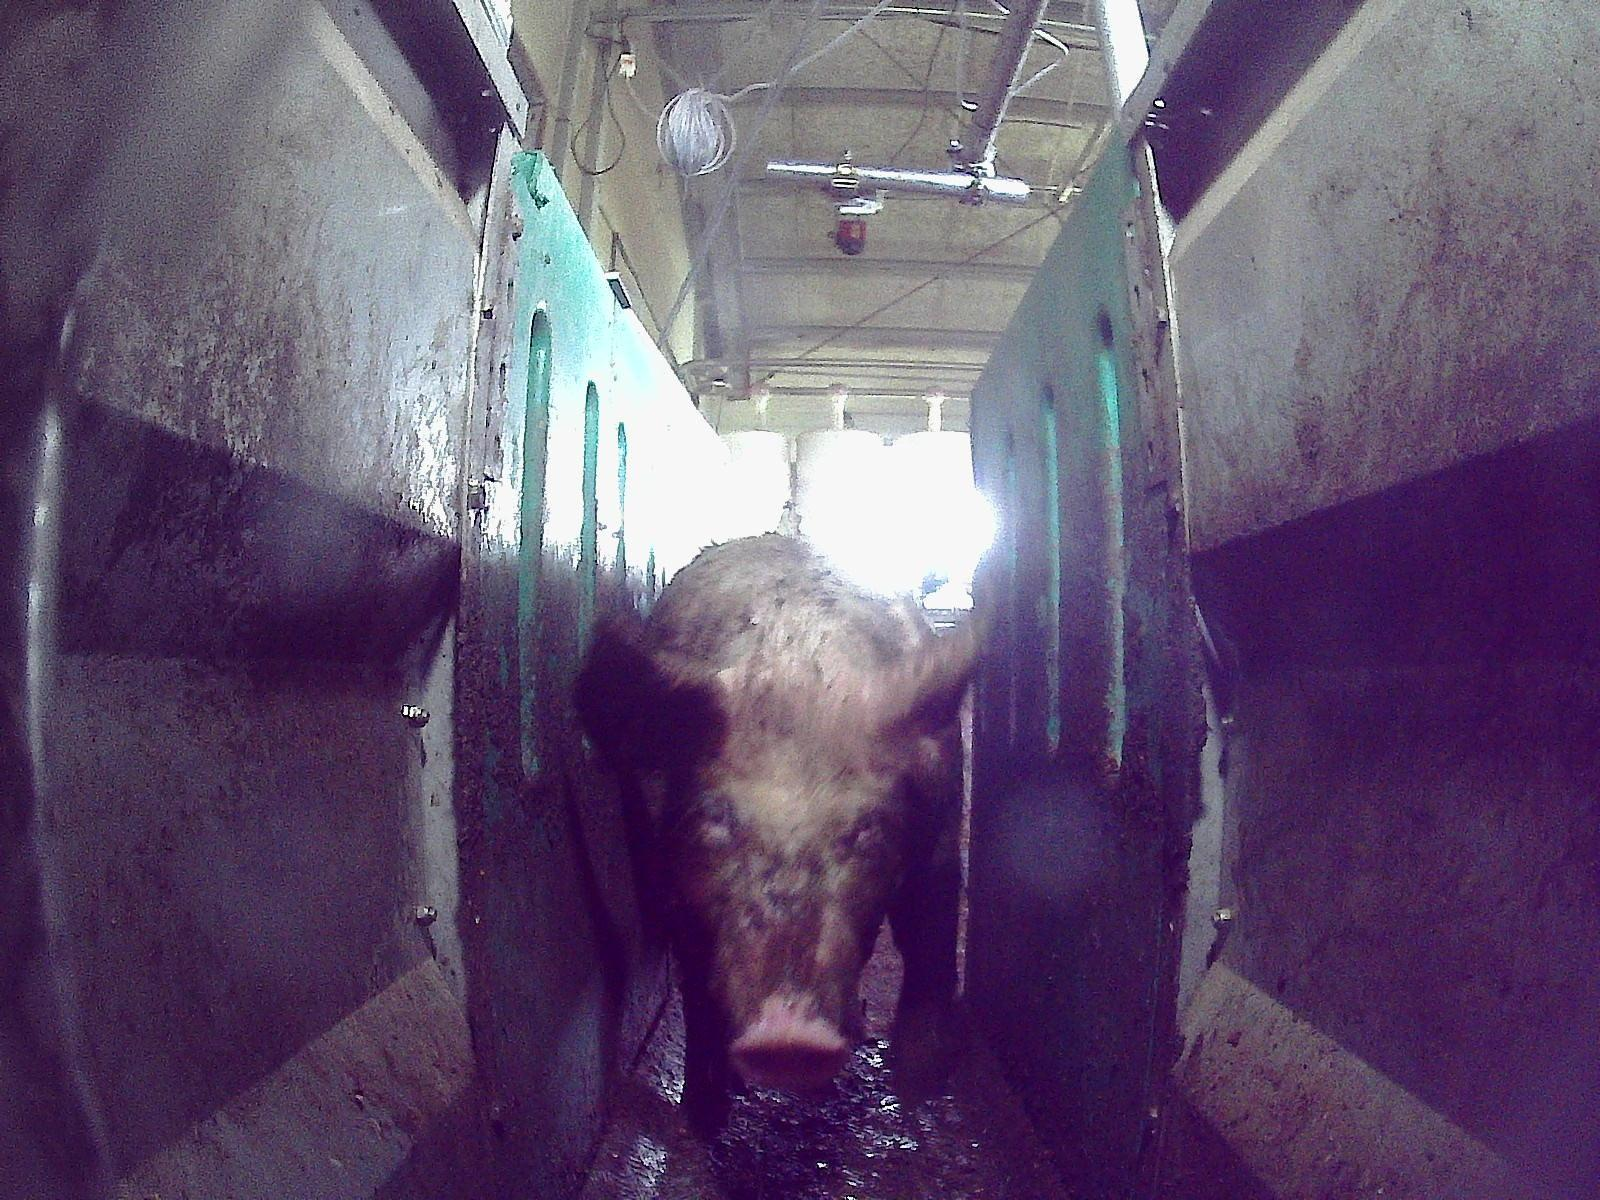Face: (671, 734, 931, 1088)
